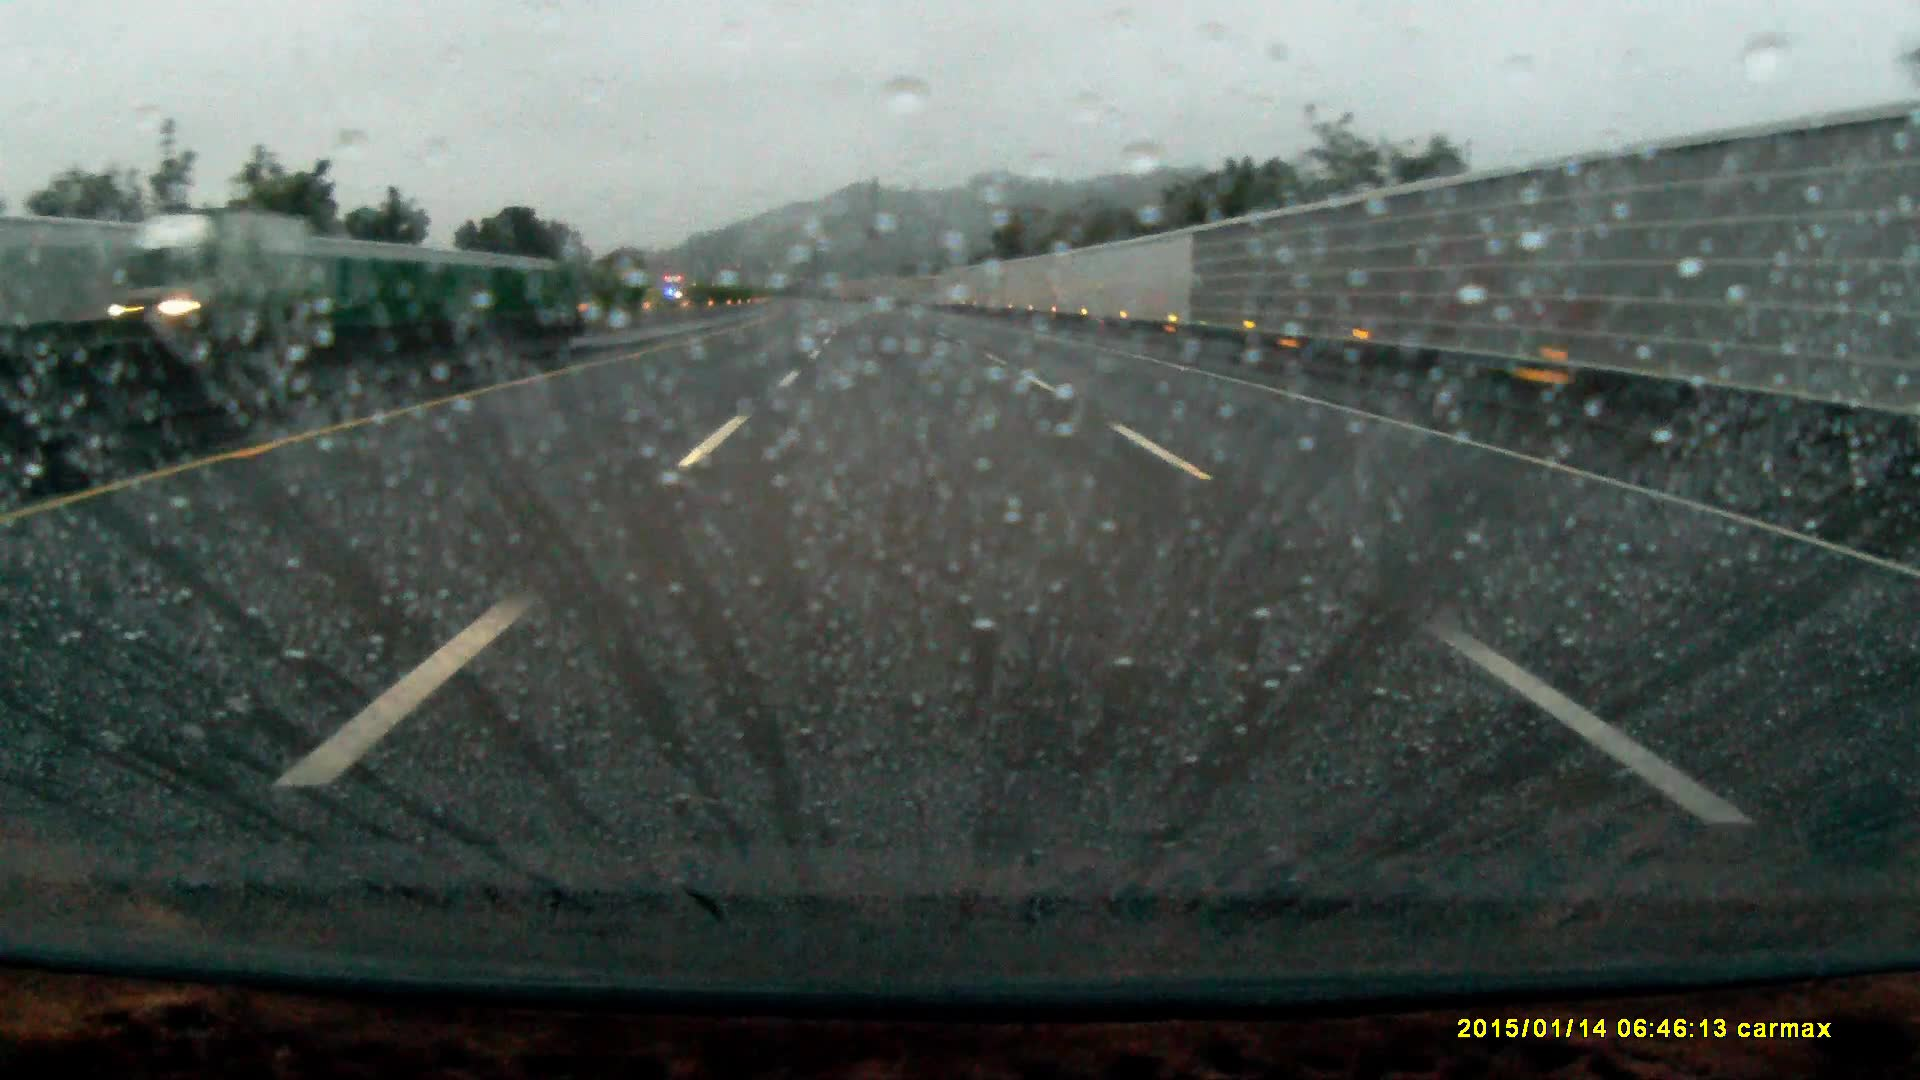vehicle: (67, 204, 297, 348)
